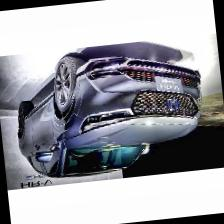NON-EV: (10, 43, 211, 185)
